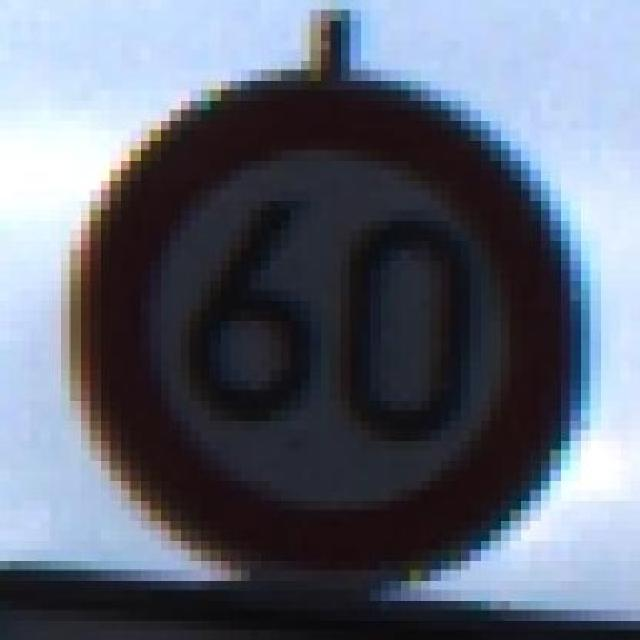forb_speed_over_60: (81, 77, 579, 572)
